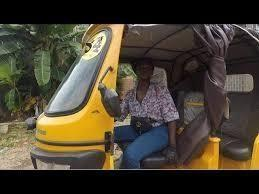keke: (17, 22, 247, 168)
